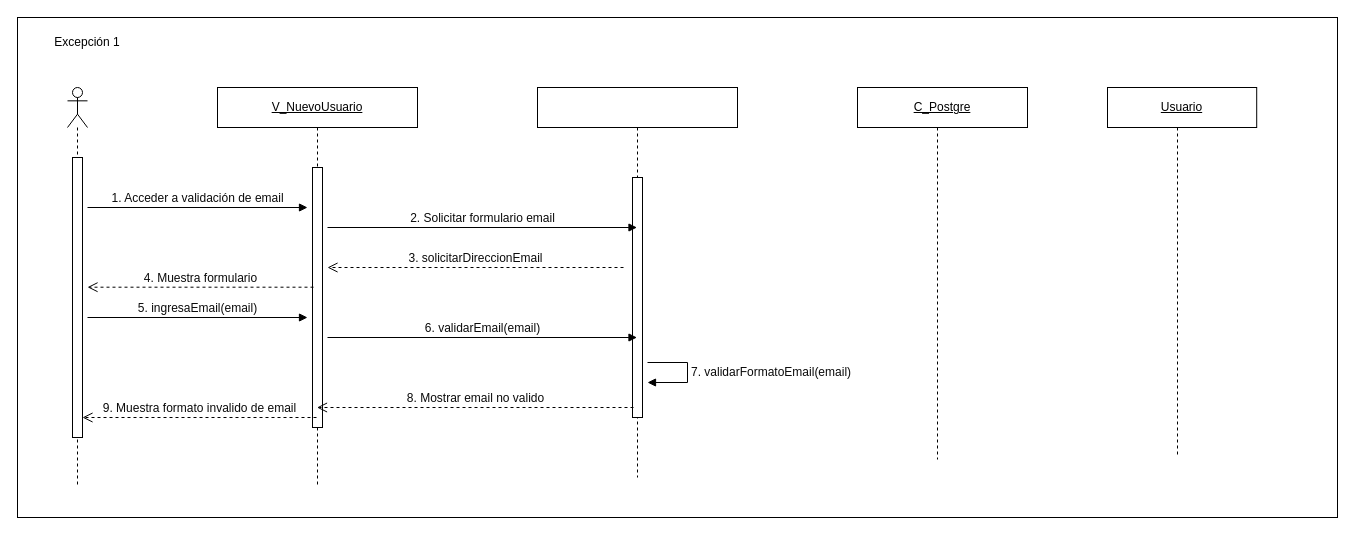
Image size: 1355x535. Some labels were removed from this diagram. The box of each missing label's shape, as (x1, y1, x2, y2) in pixels:
C_usuarios: (536, 86, 738, 478)
Gerencia: (66, 86, 88, 488)
